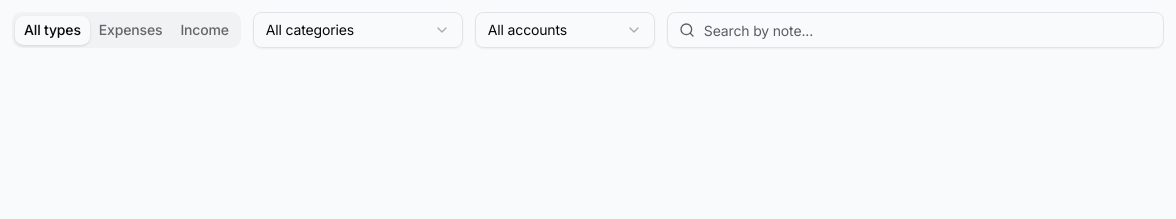
Test: TransactionFilters › renders display names for system categories without blank text
Click the dropdown with test id "filter-category-select" at coordinates (358, 30), box 253,12 -> 463,48
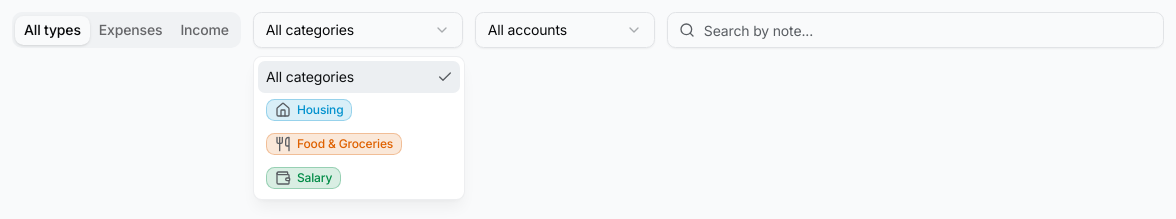
Result: the option with test id "filter-category-option-cat-housing" is shown at 266,99 -> 352,121
